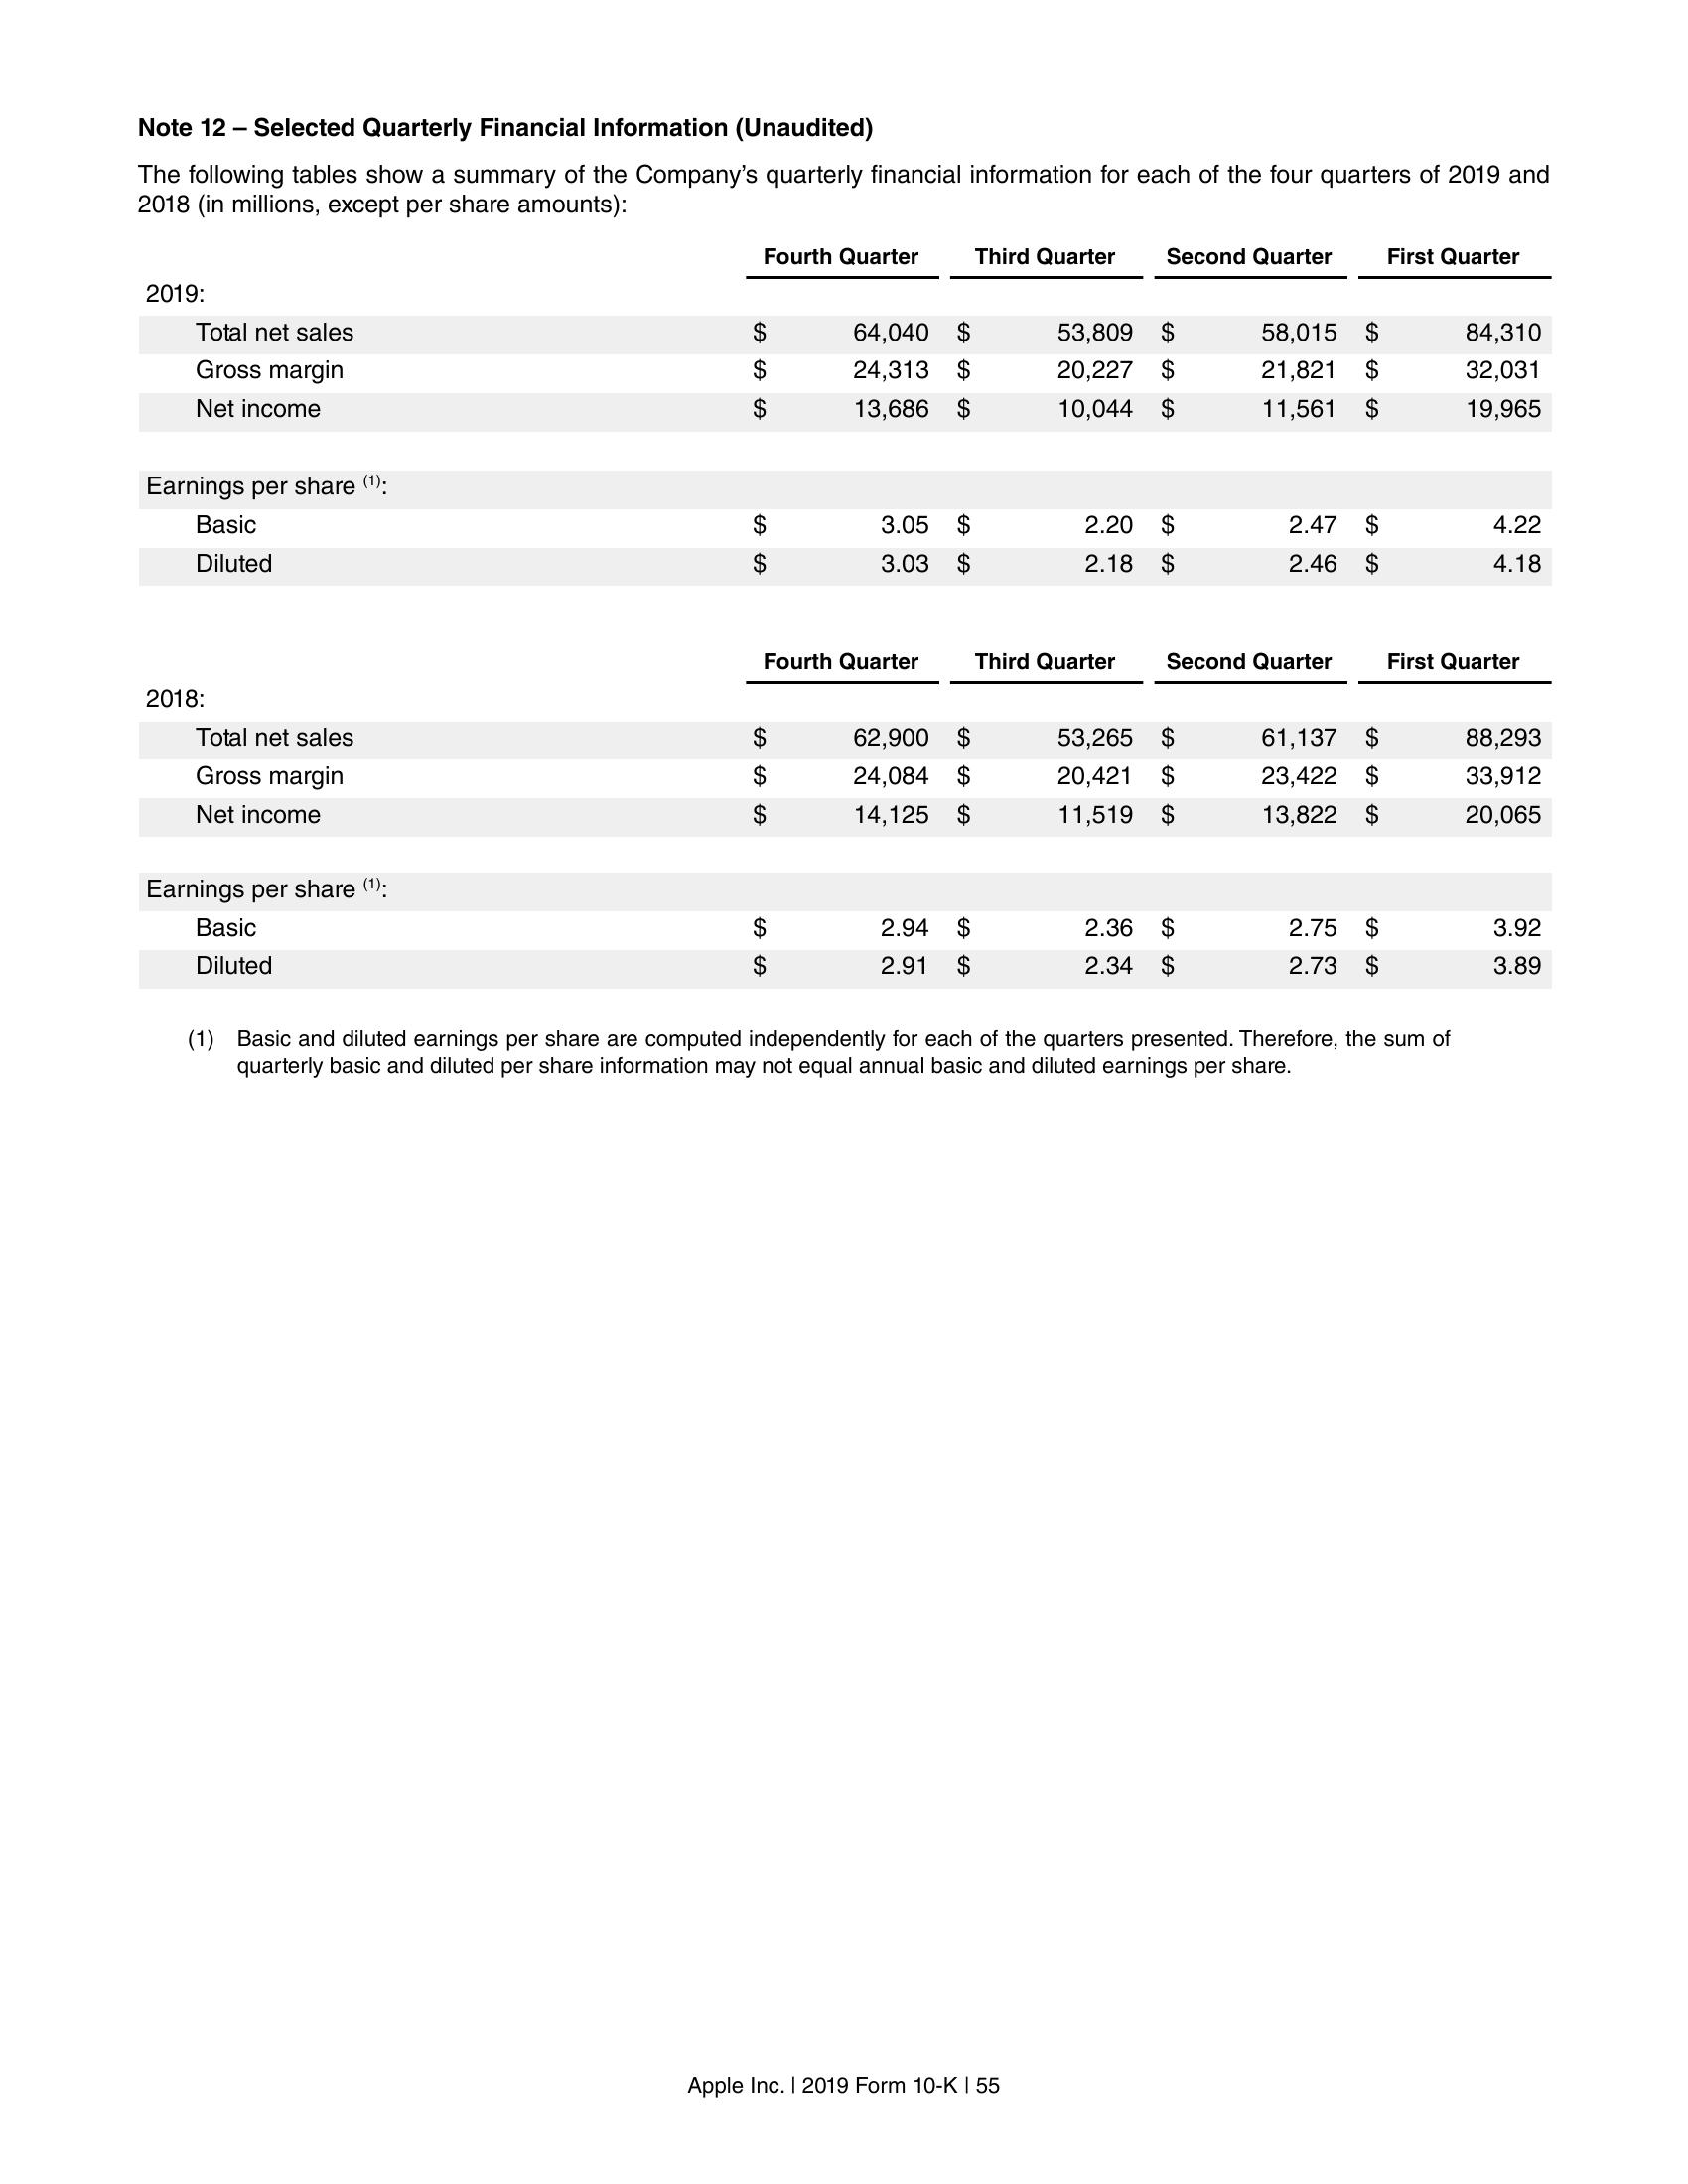table: (137, 647, 1560, 991), (135, 241, 1560, 583)
